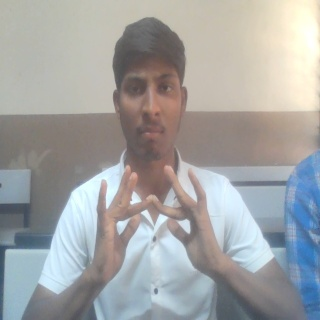Face: (109, 16, 188, 164)
Internet: (90, 163, 225, 285)
